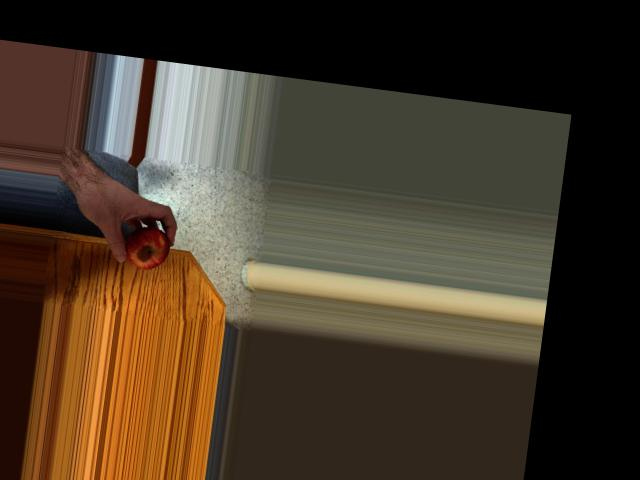apple: (116, 220, 174, 272)
